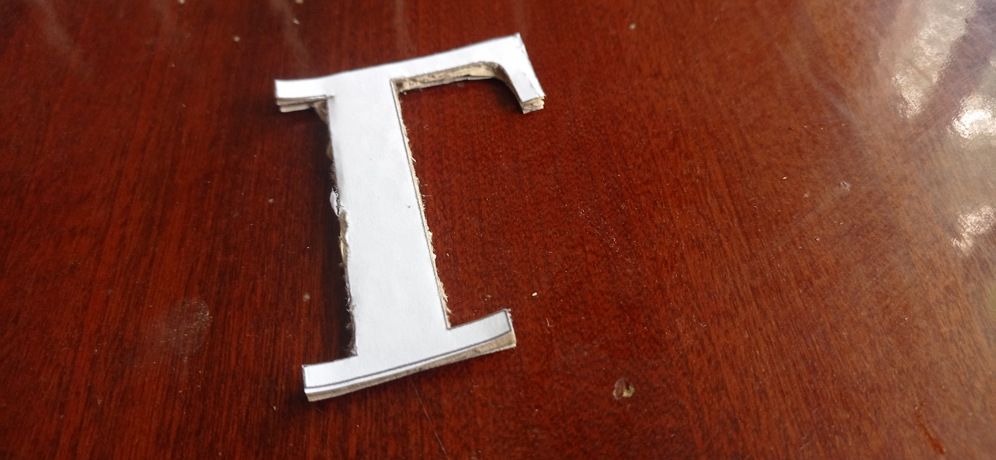g: (276, 34, 548, 402)
